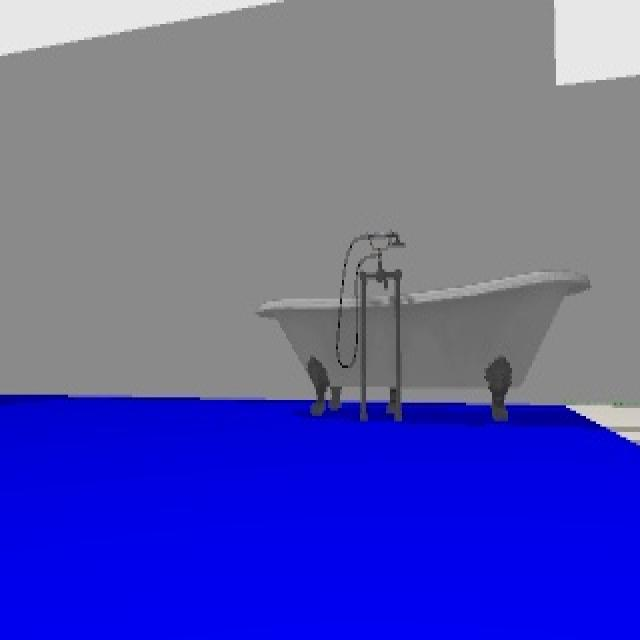bathtub: (258, 232, 592, 424)
